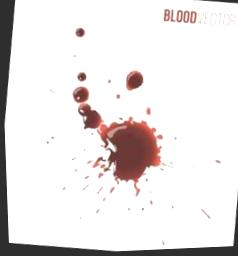Fire: (90, 116, 162, 196), (76, 102, 100, 129), (124, 70, 142, 91), (70, 86, 87, 103), (73, 26, 83, 38), (75, 72, 85, 82)
